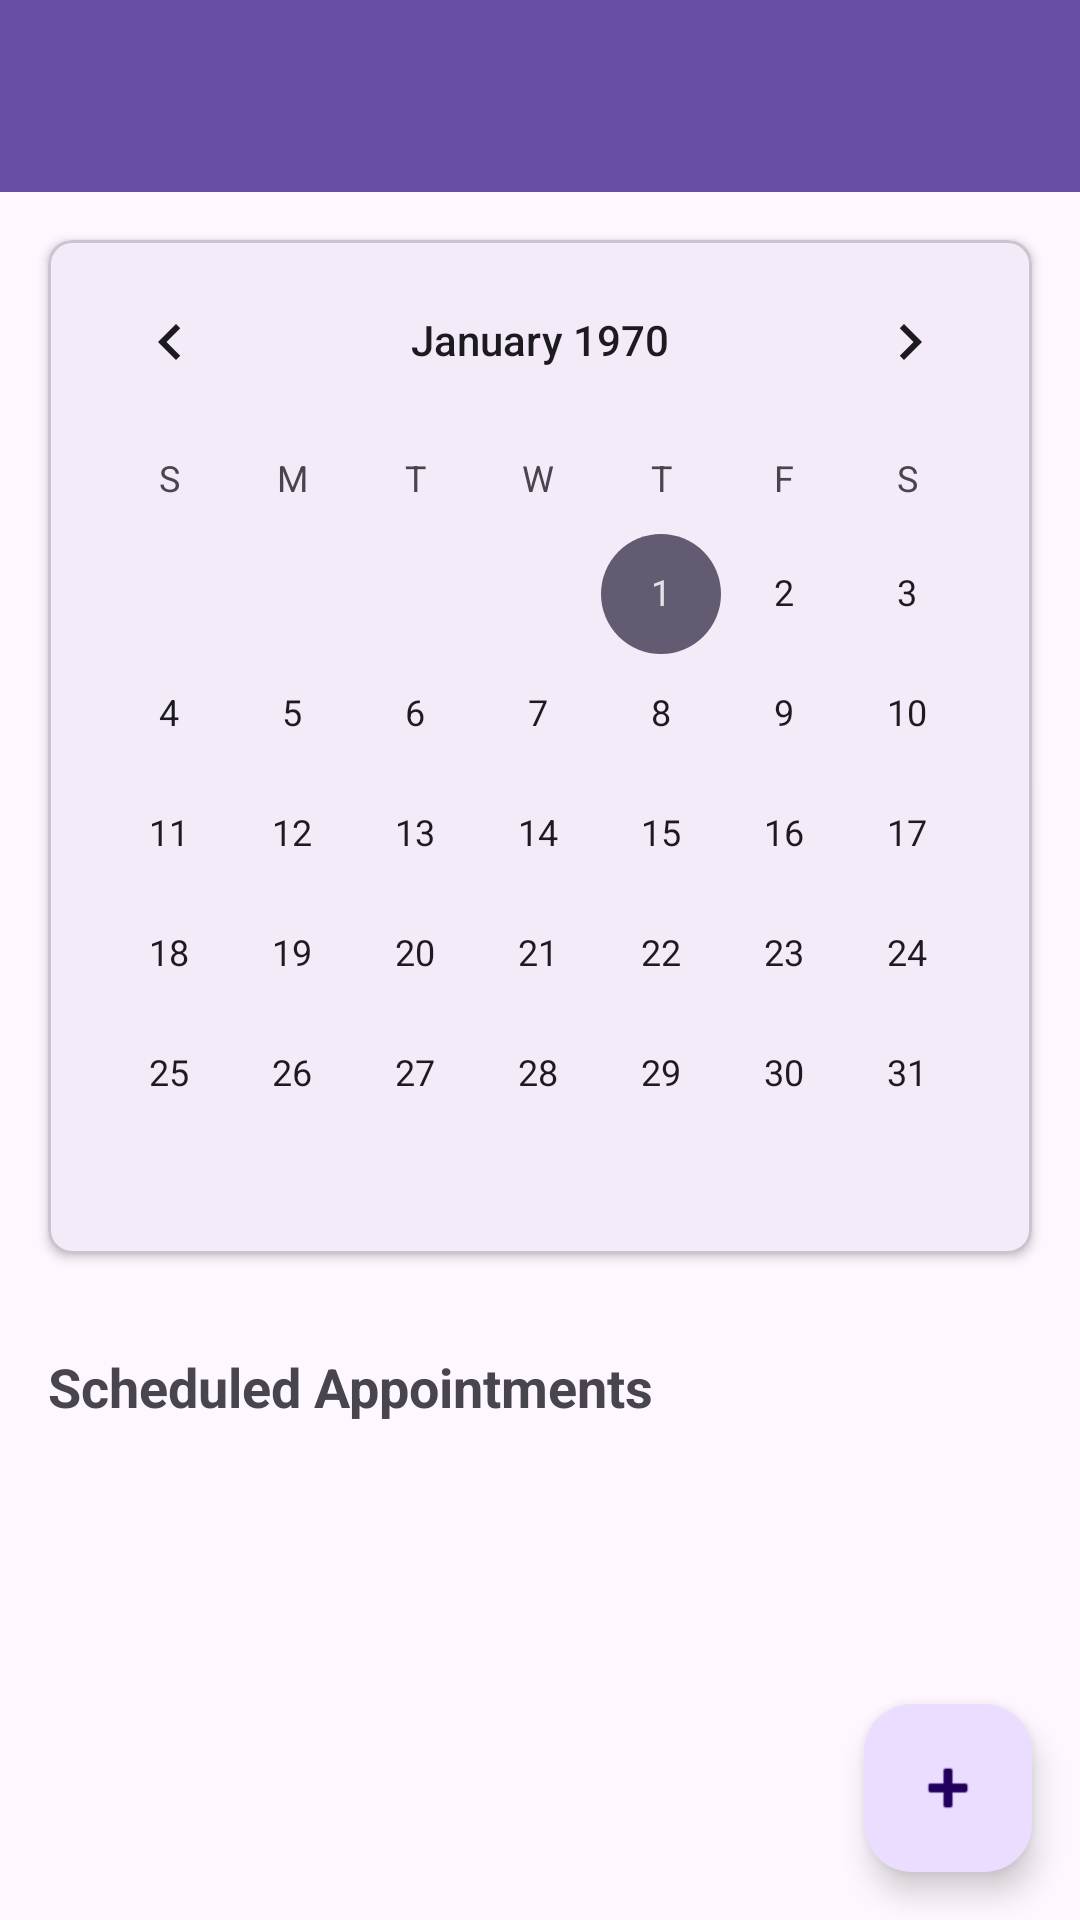

Point at icon controls on the screen. Image size 1080x1920, points as (x,y).
Add schedule: (948,1788)
